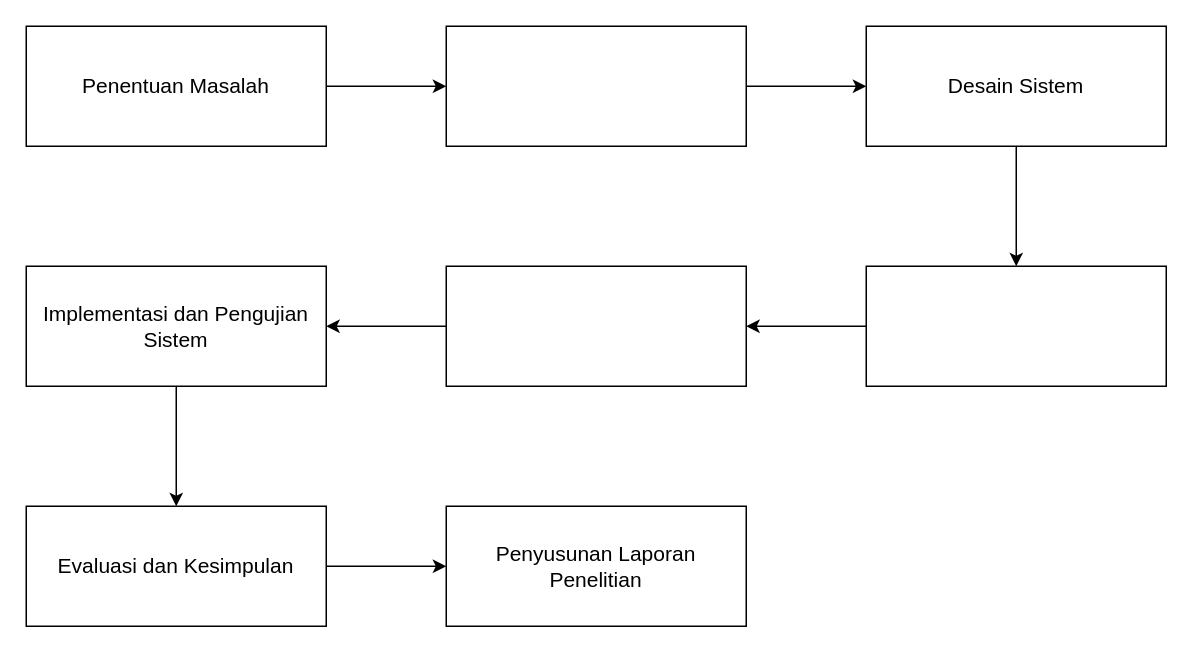
The diagram is 1193 pixels wide and 653 high, and some of its shapes have lost their labels. Here are the shapes that lost their labels. From the top down, the centre of each, then its label:
At (x=595, y=85): "Kajian Literatur".
At (x=595, y=325): "Analisis Data".
At (x=1015, y=325): "Pengumpulan Data".
